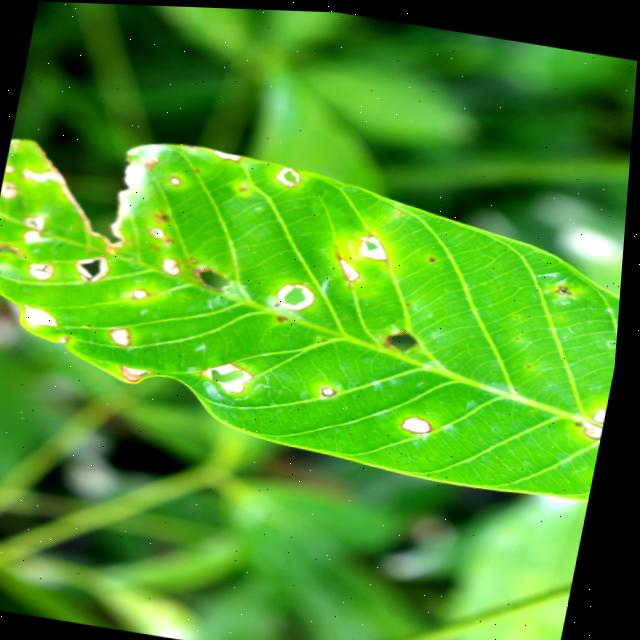Colletotrichum: (276, 278, 323, 312), (405, 411, 439, 432), (110, 325, 137, 346), (588, 417, 609, 435), (597, 403, 612, 418), (324, 384, 341, 394), (395, 206, 404, 211)
